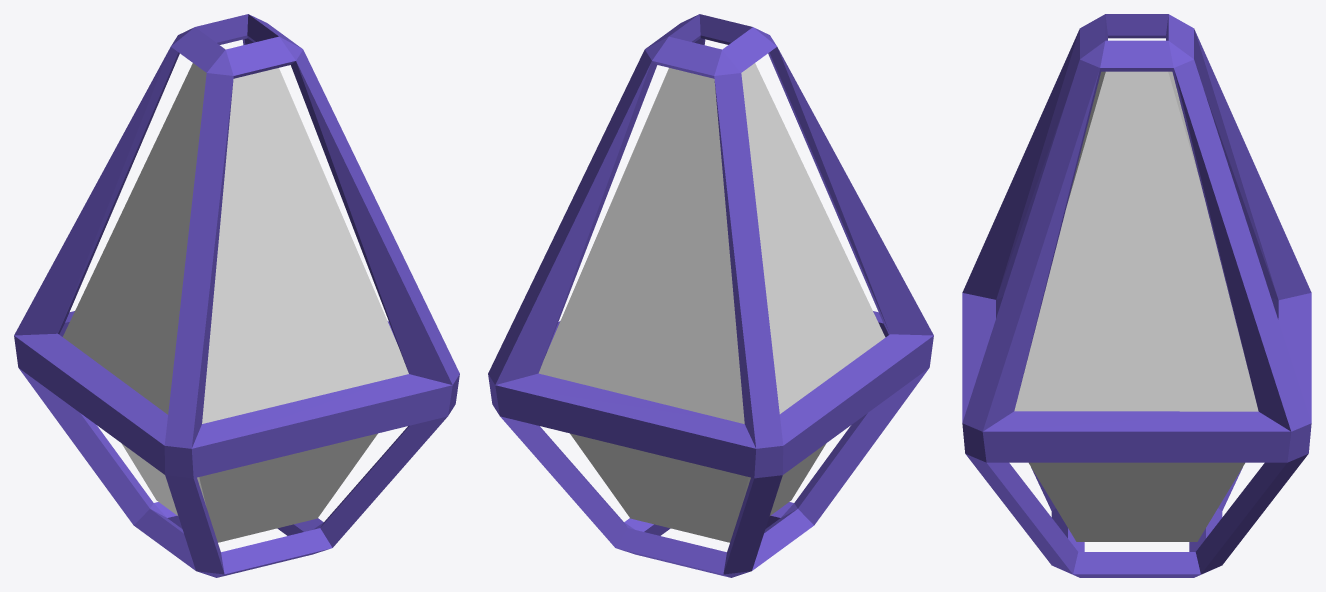
File: the dream.fbx
3 views of the same model, side by side, from view 1: azimuth 30°, elevation 25°; view 2: azimuth 150°, elevation 25°; view 3: azimuth 270°, elevation 25° (orthographic). The views are drawn at different scales.
Visible parts, largest first — view 1: dream, dream cage; view 2: dream cage, dream; view 3: dream cage, dream.
Part boxes in pixels (box(x1,y1,x2,y2)): dream: box(63, 63, 408, 542); dream cage: box(14, 14, 459, 577); dream cage: box(488, 14, 933, 577); dream: box(538, 63, 885, 542); dream cage: box(962, 14, 1311, 577); dream: box(1014, 71, 1258, 541).
Bounding box in the file's own units: 2361 × 3927 × 2361.
